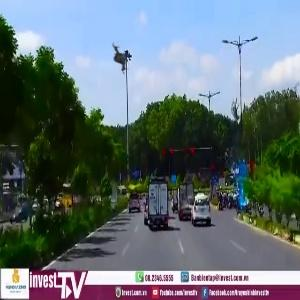drone: (104, 41, 142, 79)
